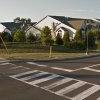Crosswalk: (7, 57, 100, 100)
